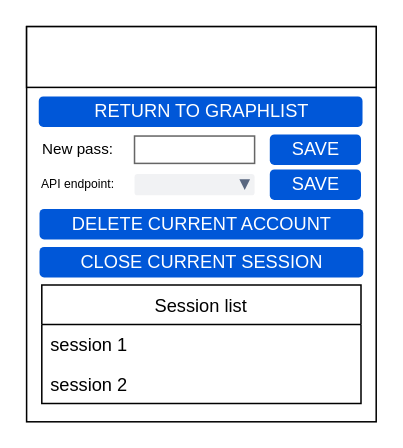
The diagram is 403 pixels wide and 448 high, and some of its shapes have lost their labels. The shapes that lost their labels are listed below. From the top down, each one's centre as x and y in pixels, then its label:
At [200,56]: "lab19_Lukyanov".
At [194,149]: "new password".
At [194,184]: "endpoints".
